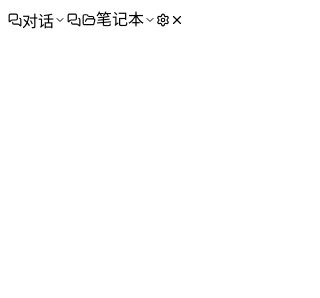
it: floating bar navigation and shell › uses a conversation icon for the chat entry and a voice icon for the interview mode
Click the button "对话" at (37, 20), box [8,8,66,32]
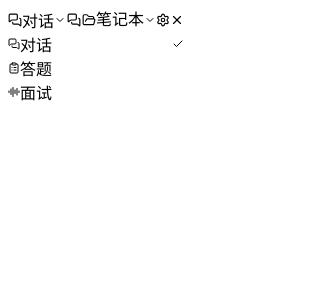
Click the menu item "面试" at (96, 92), box [8,80,184,104]
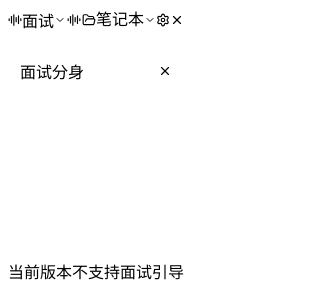
Result: the element "面试分身" is shown at [8,64,184,281]
